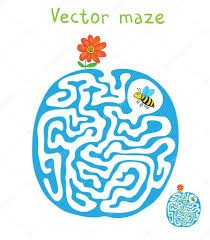maze: (37, 75, 169, 211)
